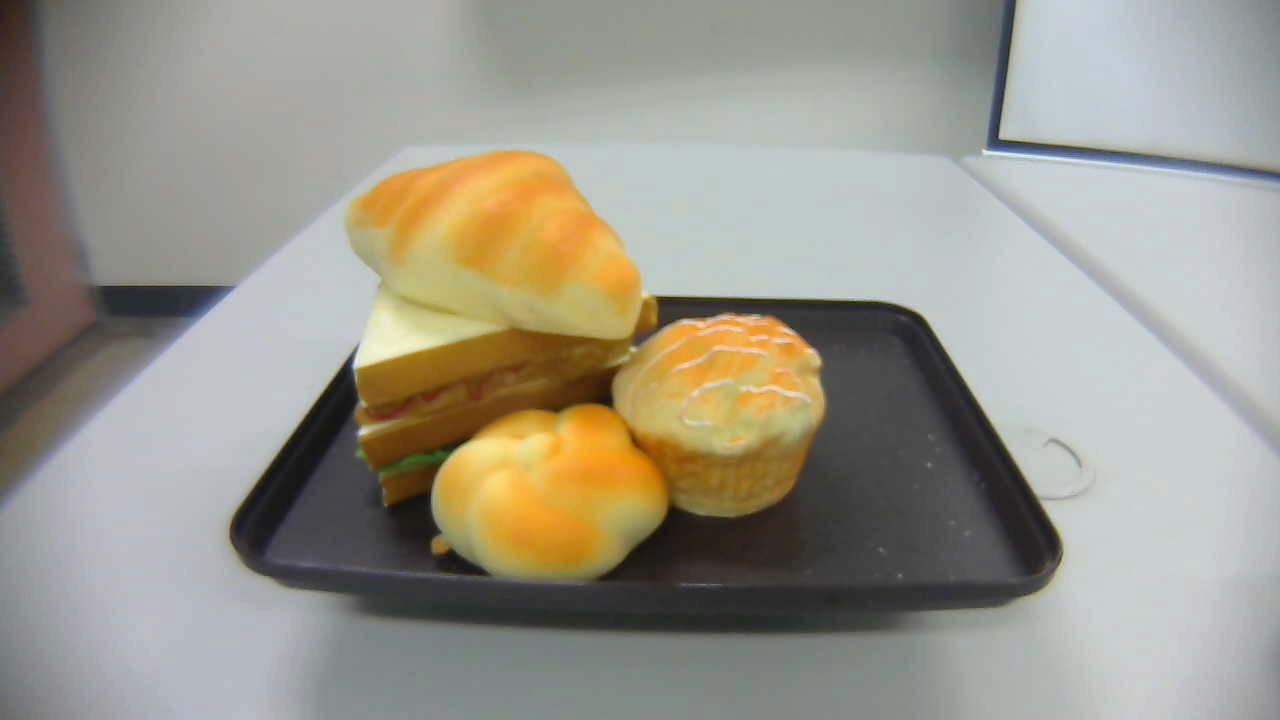croissant: (345, 150, 643, 338)
cupcake: (611, 312, 826, 519)
sandwich: (349, 222, 659, 511)
twist bread: (433, 399, 670, 594)
